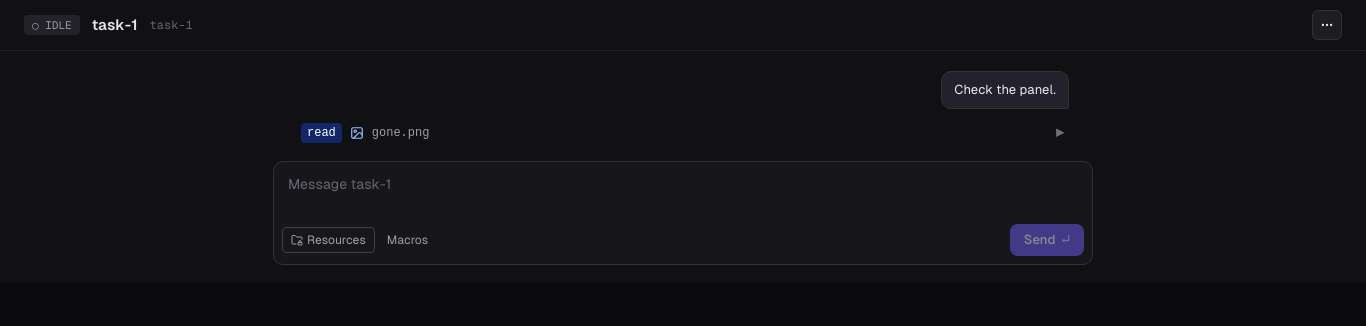
Test: NativeAgentPanel and images an agent read › says why, in the server's words, when the image cannot be shown
What coordinates should you click on to do the following:
click the button "read gone.png ▶"
I would click on:
 (321, 133)
Its box is [297,121,1069,145].
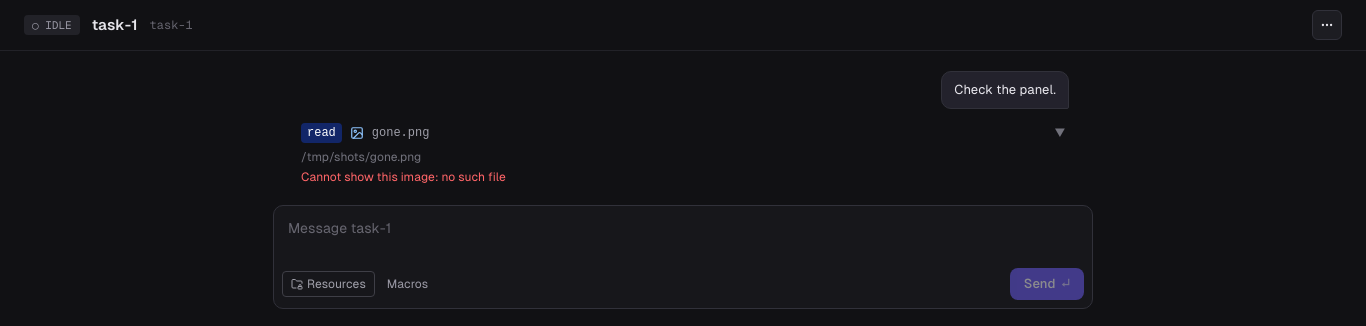
Expected: the message reads "Cannot show this image: no such file", [301,170,506,184]
